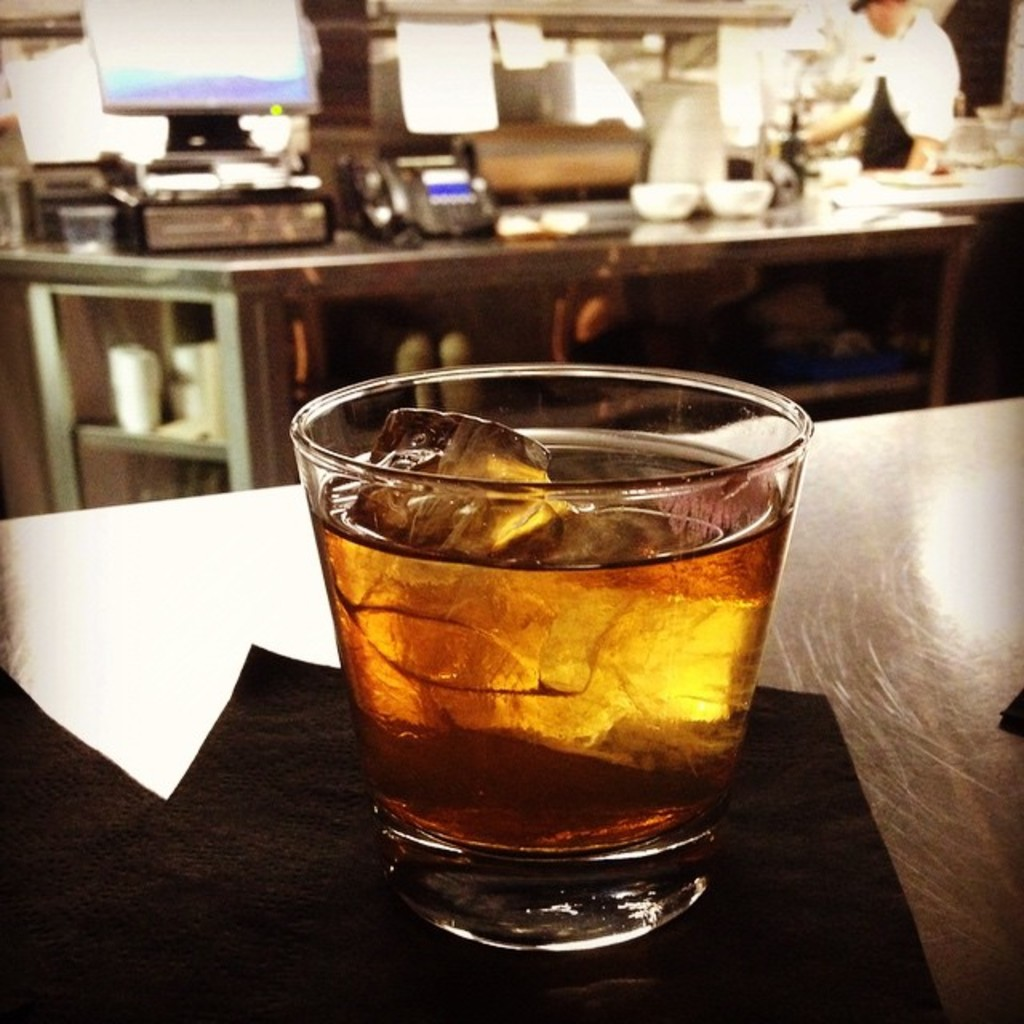Beer: (288, 362, 815, 952)
